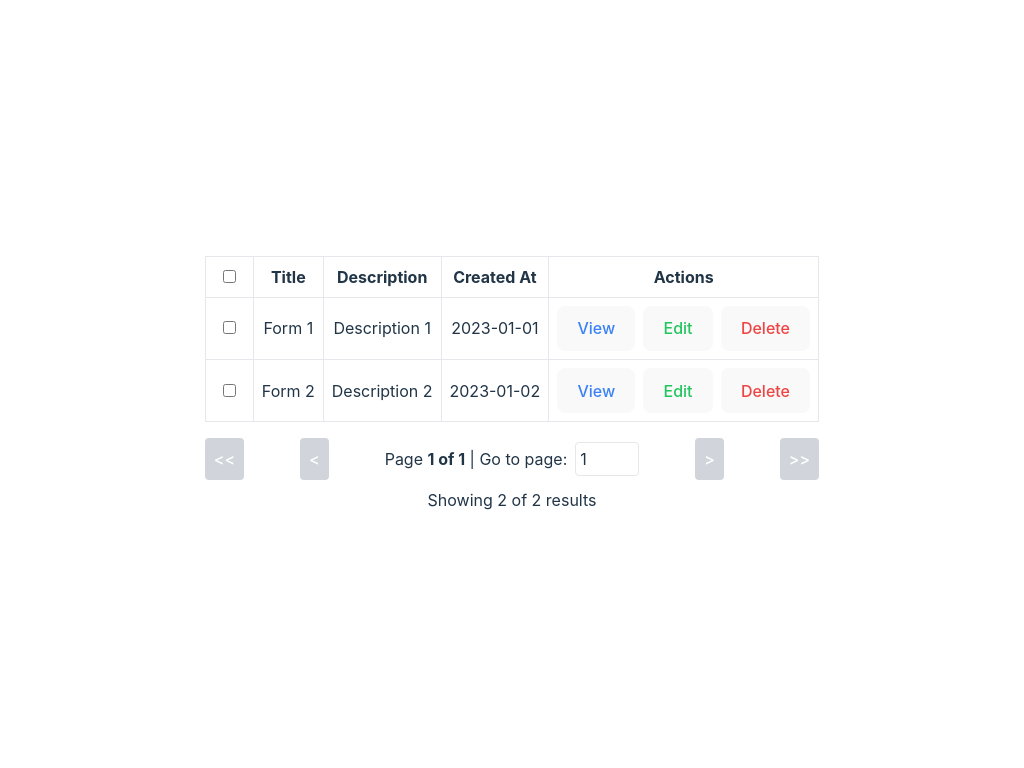
Scenario: AnamnesisFormList › shows delete confirmation modal
Expected: the text "Form 1" is shown, x1=253 y1=297 x2=323 y2=360
What coordinates should you click on to do the following:
click the button "Delete" in the row of "Form 1"
I would click on:
 (765, 328)
Its box is x1=721 y1=306 x2=810 y2=351.
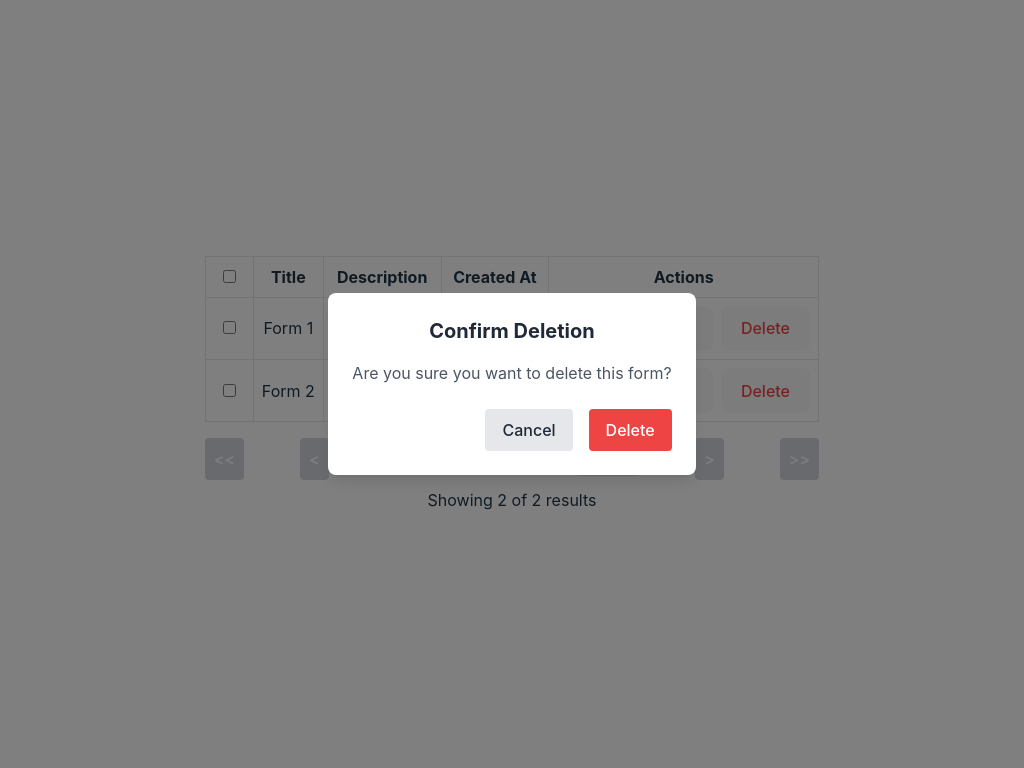
Expected: the heading "Confirm Deletion" is shown, x1=429 y1=319 x2=595 y2=343
Expected: the text "Are you sure you want to delete this form?" is shown, x1=352 y1=361 x2=672 y2=385
